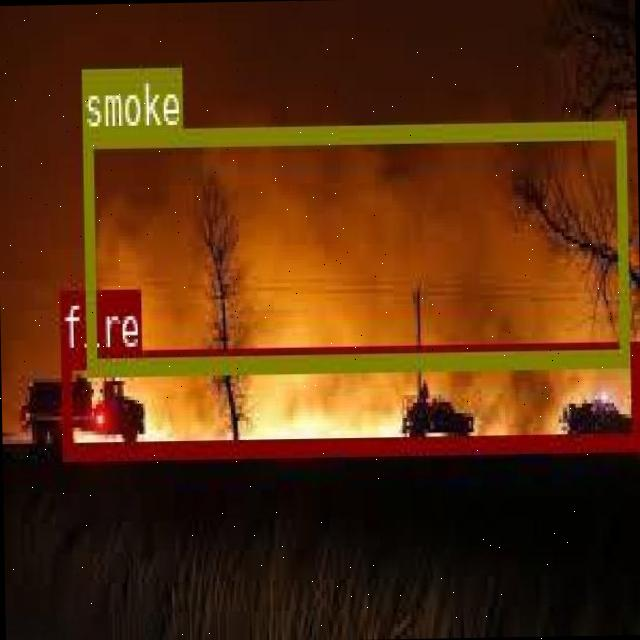fire: (59, 341, 638, 454)
smoke: (81, 117, 626, 371)
